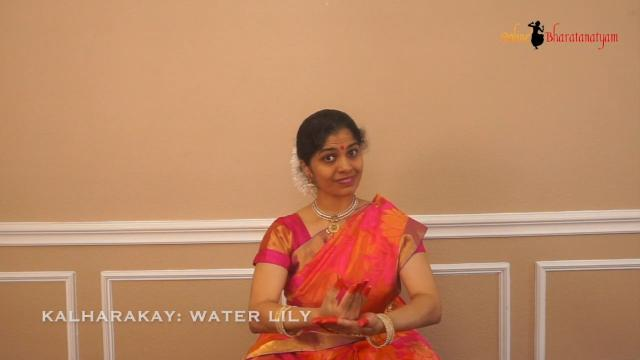kangul: (308, 268, 374, 322)
